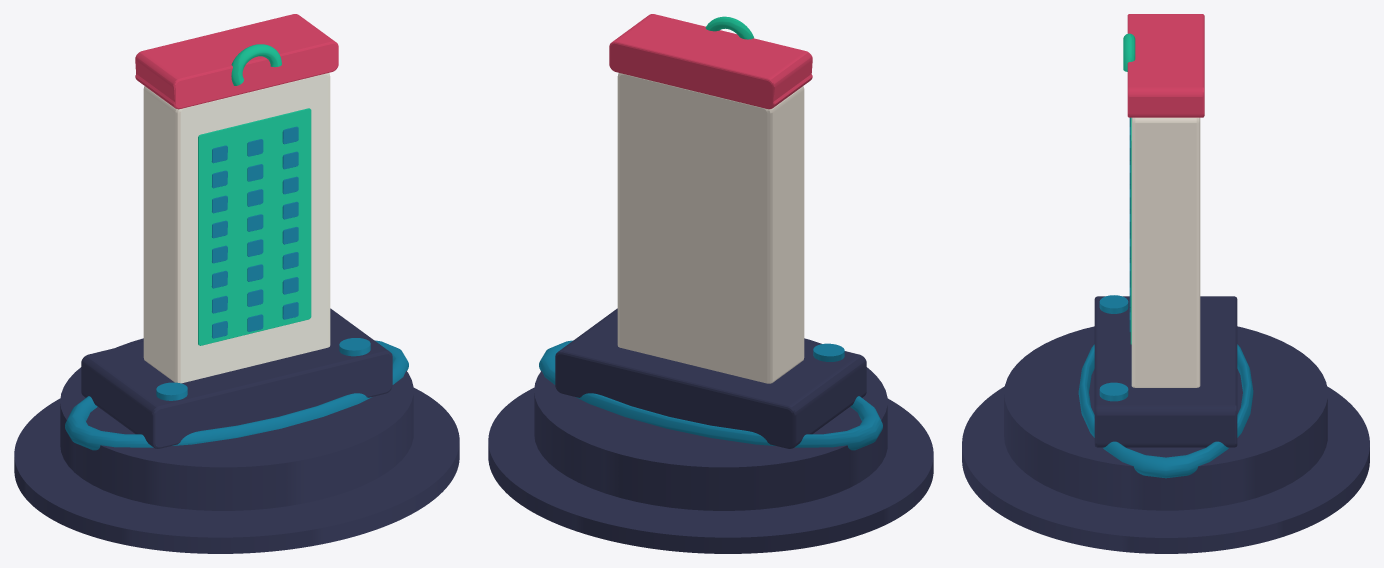
Rendered from 0867_生活中的数学图鉴_谢尔宾斯基三角形.glb.
3 renders of one model, left to right at view 1: azimuth 30°, elevation 25°; view 2: azimuth 150°, elevation 25°; view 3: azimuth 270°, elevation 25°, orthographic. The views are drawn at different scales.
Visible parts, largest first — view 1: card_0867; view 2: card_0867; view 3: card_0867.
Boxes of the visible parts, <box> form: card_0867: <box>14,14,459,553</box>; card_0867: <box>488,14,933,553</box>; card_0867: <box>962,14,1369,553</box>.
Bounding box in the file's own units: 0.953 × 1 × 0.8732.
